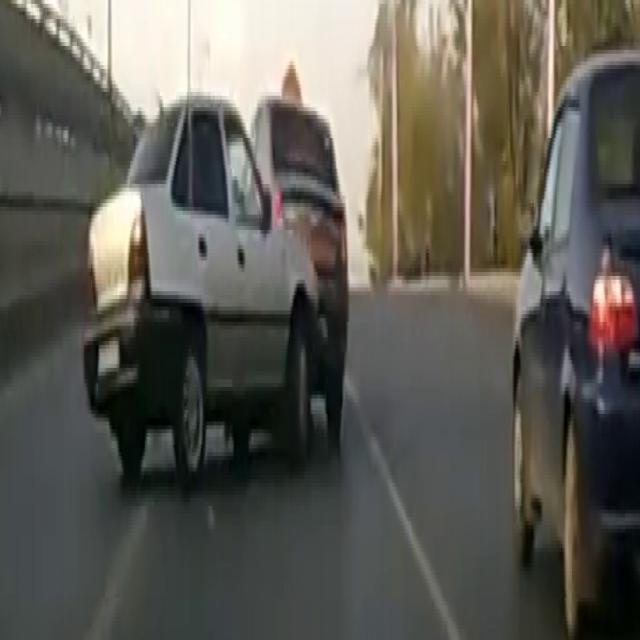accident: (195, 38, 362, 486)
